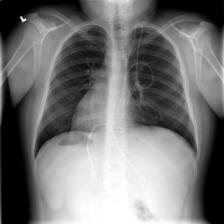normal: (29, 22, 201, 163)
